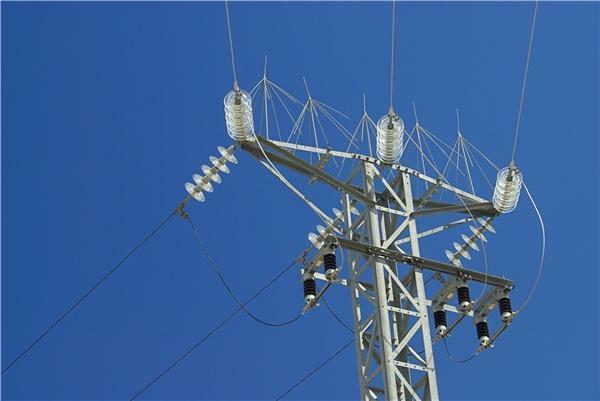power_tower: (192, 64, 529, 401)
